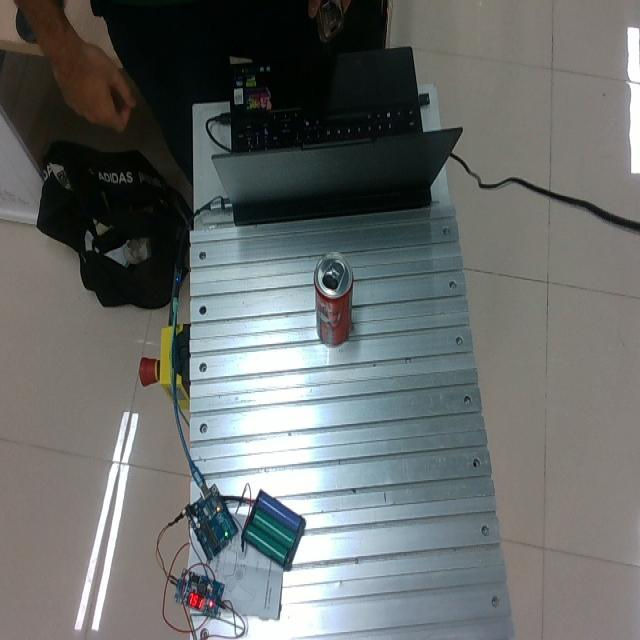coca: (312, 251, 353, 348)
